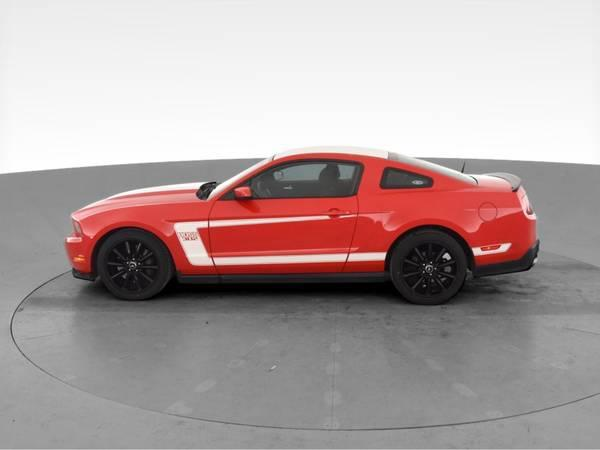Front_Bumper: (66, 238, 93, 280)
Front_Fender: (82, 201, 223, 280)
Front_Left_Door: (211, 195, 360, 282)
Front_Left_Window: (209, 154, 363, 202)
Hood: (77, 182, 213, 219)
Left_Headlight: (67, 216, 84, 236)
Left_Taillight: (519, 192, 532, 212)
Rear_Bumper: (466, 213, 539, 275)
Rear_Fender: (342, 159, 527, 277)
Wheel: (391, 231, 469, 306), (95, 230, 171, 298)
